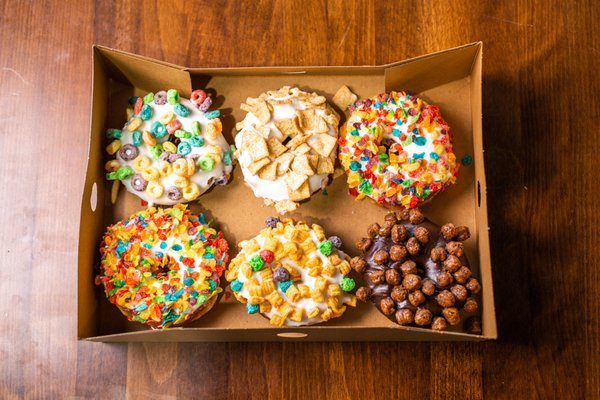salad: (96, 202, 229, 328), (102, 88, 234, 205), (224, 215, 357, 326), (338, 89, 459, 209), (361, 215, 482, 334), (233, 84, 341, 202)
